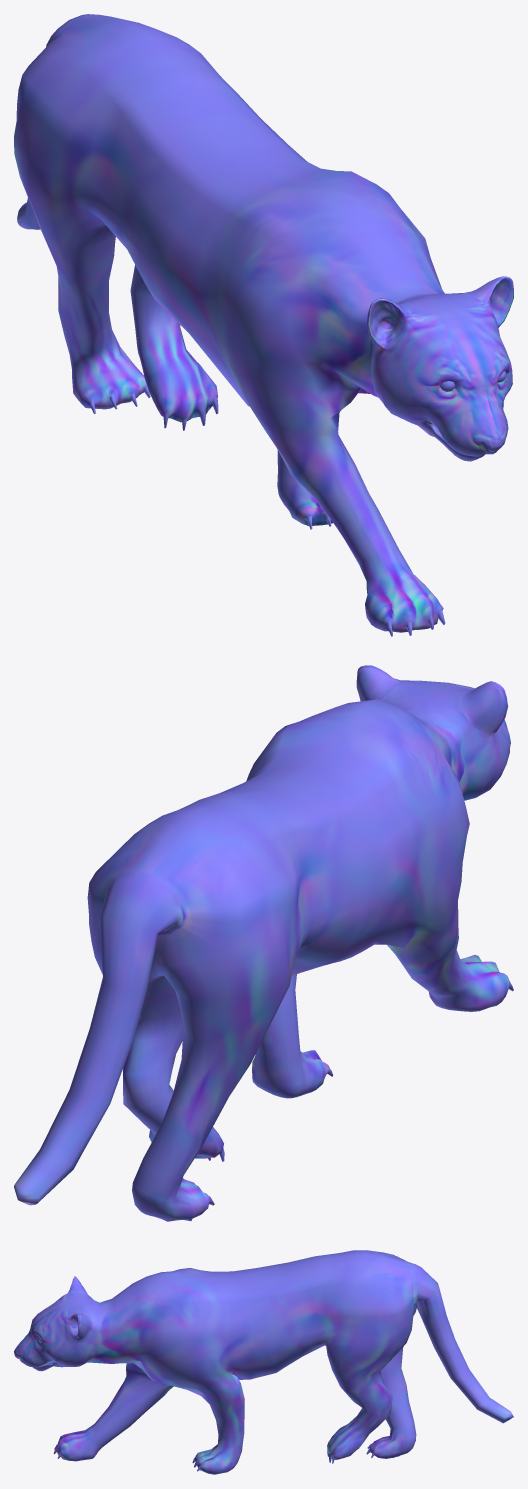
The model's file is leopard.fbx.
3 views of the same model, one above another, from view 1: azimuth 30°, elevation 25°; view 2: azimuth 150°, elevation 25°; view 3: azimuth 270°, elevation 25° (orthographic). The views are drawn at different scales.
Parts seen in each view (by area): view 1: Cats_Leopard_hp; view 2: Cats_Leopard_hp; view 3: Cats_Leopard_hp.
Boxes of the visible parts, x1,y1,x2,y2 form: Cats_Leopard_hp: (14, 14, 513, 636); Cats_Leopard_hp: (14, 665, 513, 1221); Cats_Leopard_hp: (14, 1250, 513, 1474).
Size of the model in its own units: 6.15 by 11.07 by 24.43.
Materials: 1 (1 with a texture image).
